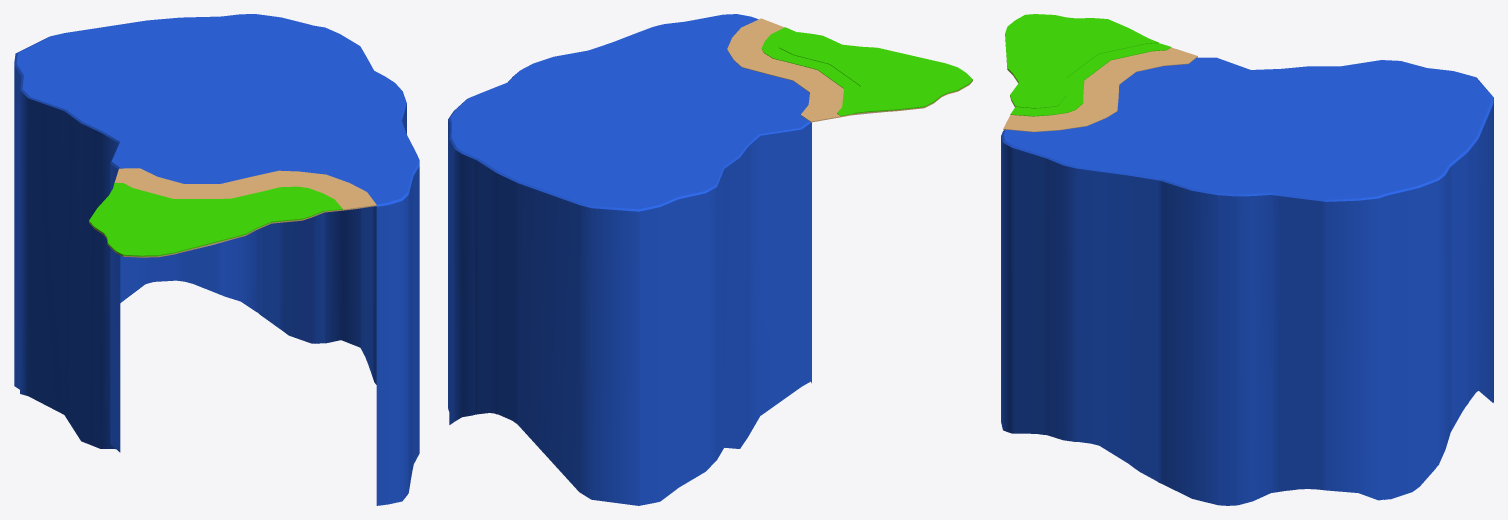
Rendered from island_shape.glb.
3 views of the same model, side by side, from view 1: azimuth 30°, elevation 25°; view 2: azimuth 150°, elevation 25°; view 3: azimuth 270°, elevation 25° (orthographic). The views are drawn at different scales.
Parts seen in each view (by area): view 1: water, island.001; view 2: water, island.001; view 3: water, island.001.
Part boxes in pixels (<box>): water: <box>14,14,419,505</box>; island.001: <box>89,168,376,257</box>; water: <box>448,14,811,505</box>; island.001: <box>727,18,972,122</box>; water: <box>1001,57,1493,505</box>; island.001: <box>1003,14,1197,132</box>.
Size of the model in its own units: 79.45 by 62.66 by 89.4.
